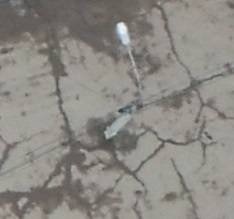opora: (104, 21, 144, 140)
